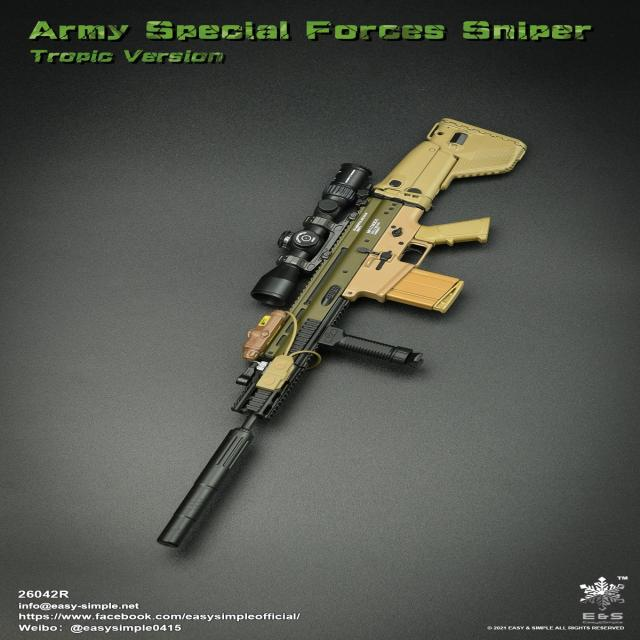Rifle: (157, 118, 527, 550)
